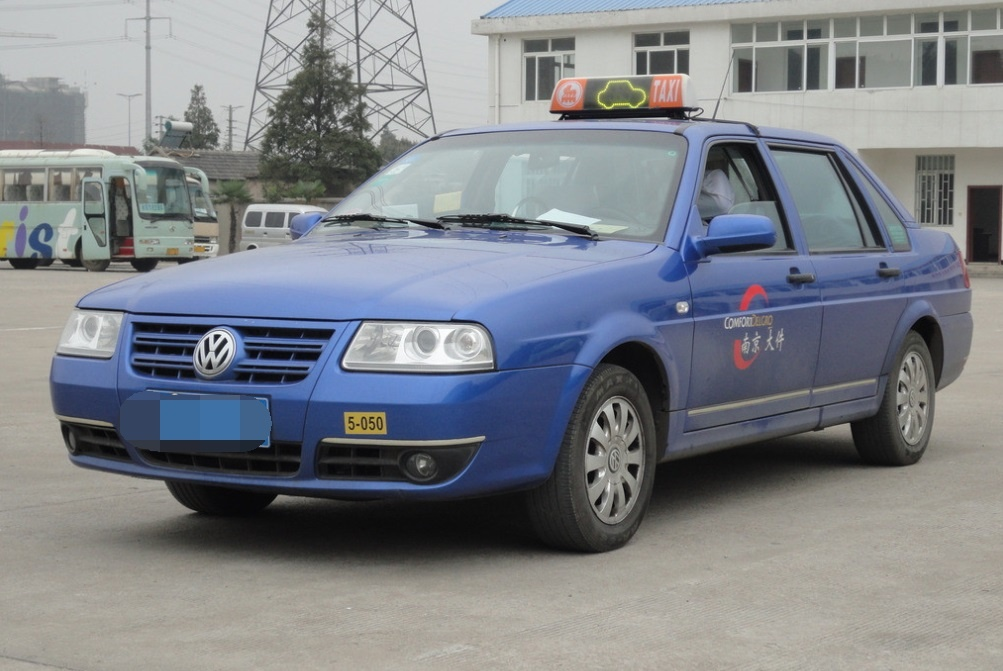taxi: (63, 92, 975, 516)
